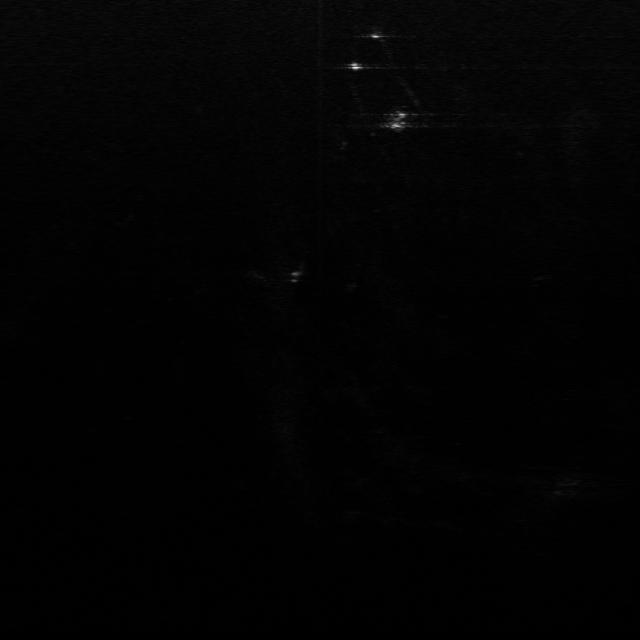rov: (382, 109, 414, 131)
